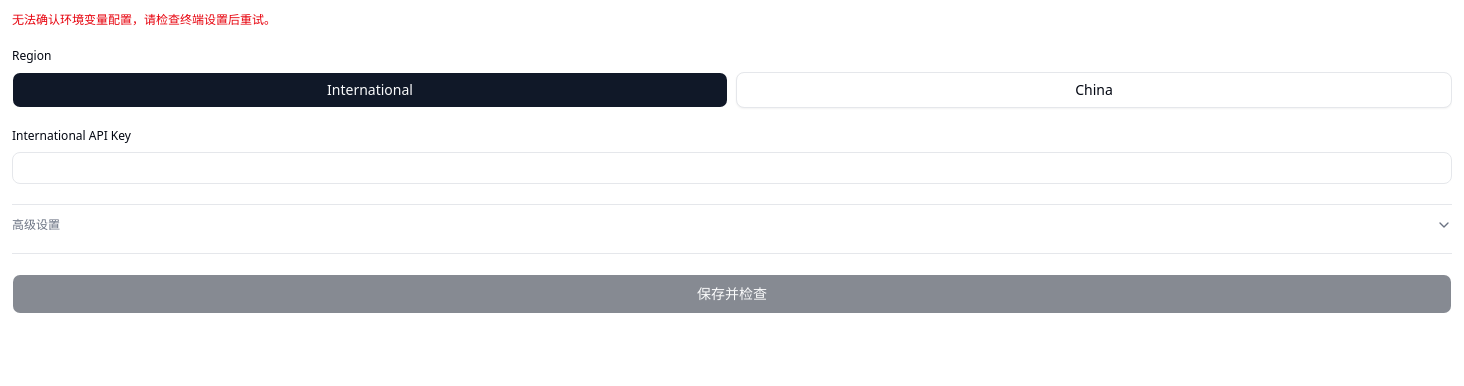
Provider Config Environment Sources › does not invent an environment source for a field without one
Expected: the message "无法确认环境变量配置，请检查终端设置后重试。" is shown, [12,12,276,28]
Step 1. Click the button "高级设置" → (36, 224), box [12,217,1452,233]
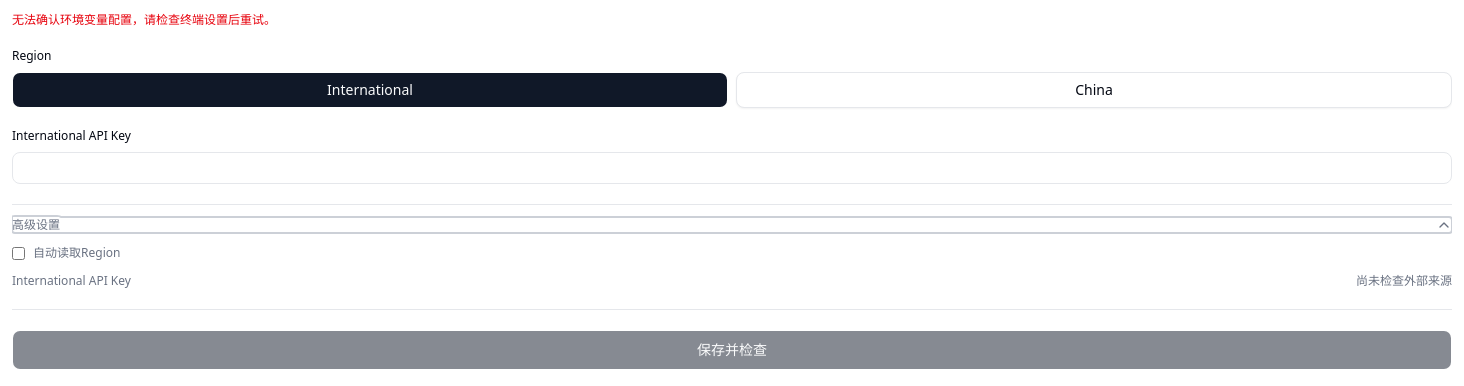
Result: the text "尚未检查外部来源" is shown at [1356,273,1452,289]
